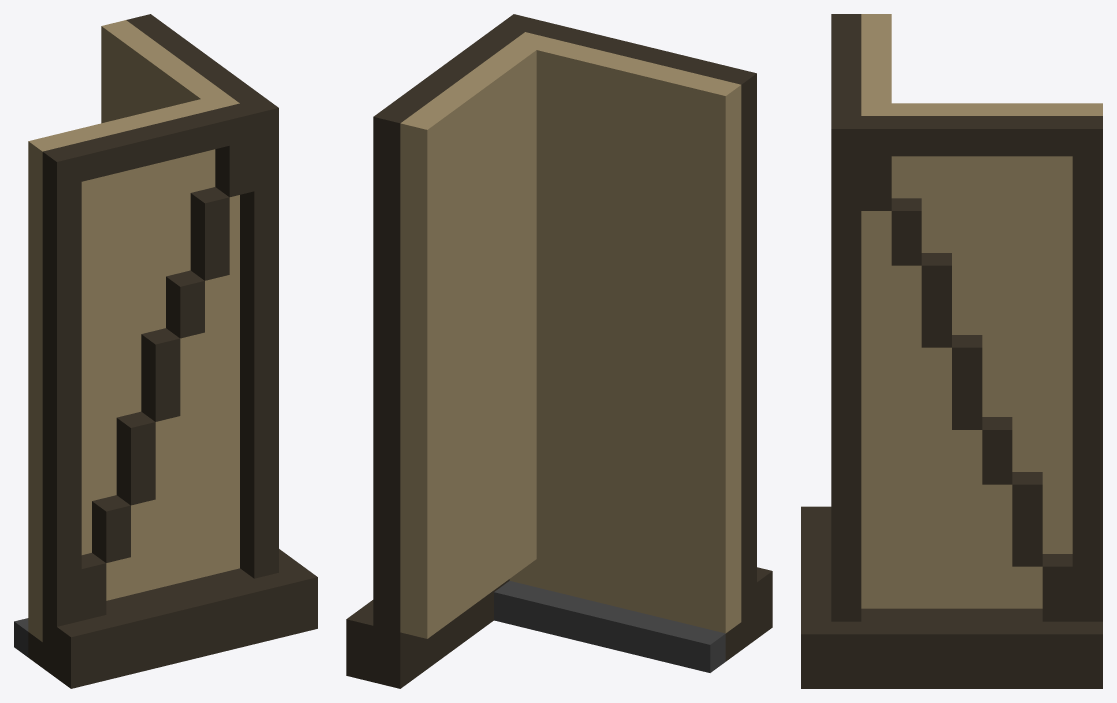
Rendered from wall_sub_inner_corner.gltf.
The picture shows the model from 3 angles, left to right: view 1: azimuth 30°, elevation 25°; view 2: azimuth 150°, elevation 25°; view 3: azimuth 270°, elevation 25°; orthographic projection. The views are drawn at different scales.
Visible parts, largest first — view 1: wall_sub_inner_corner; view 2: wall_sub_inner_corner; view 3: wall_sub_inner_corner.
Boxes of the visible parts, x1,y1,x2,y2 form: wall_sub_inner_corner: (14, 14, 317, 688); wall_sub_inner_corner: (346, 14, 772, 688); wall_sub_inner_corner: (801, 14, 1102, 688).
Bounding box in the file's own units: 1 × 2 × 1.
Materials: 1 (1 with a texture image).
